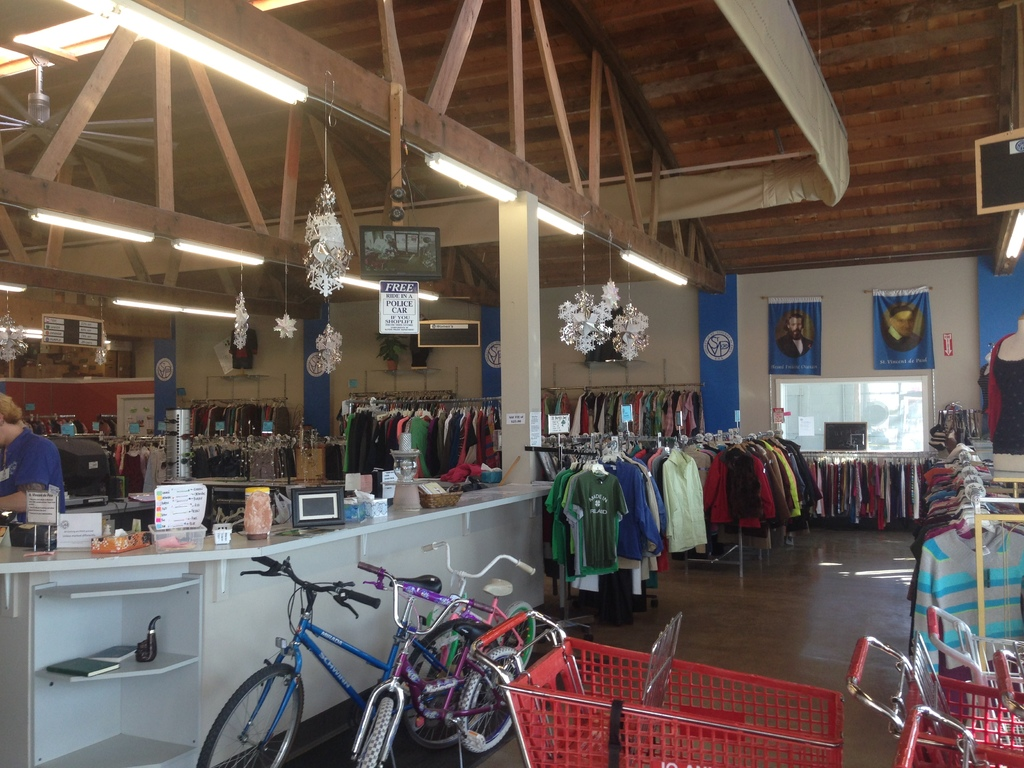Bicycle: (194, 556, 501, 767)
